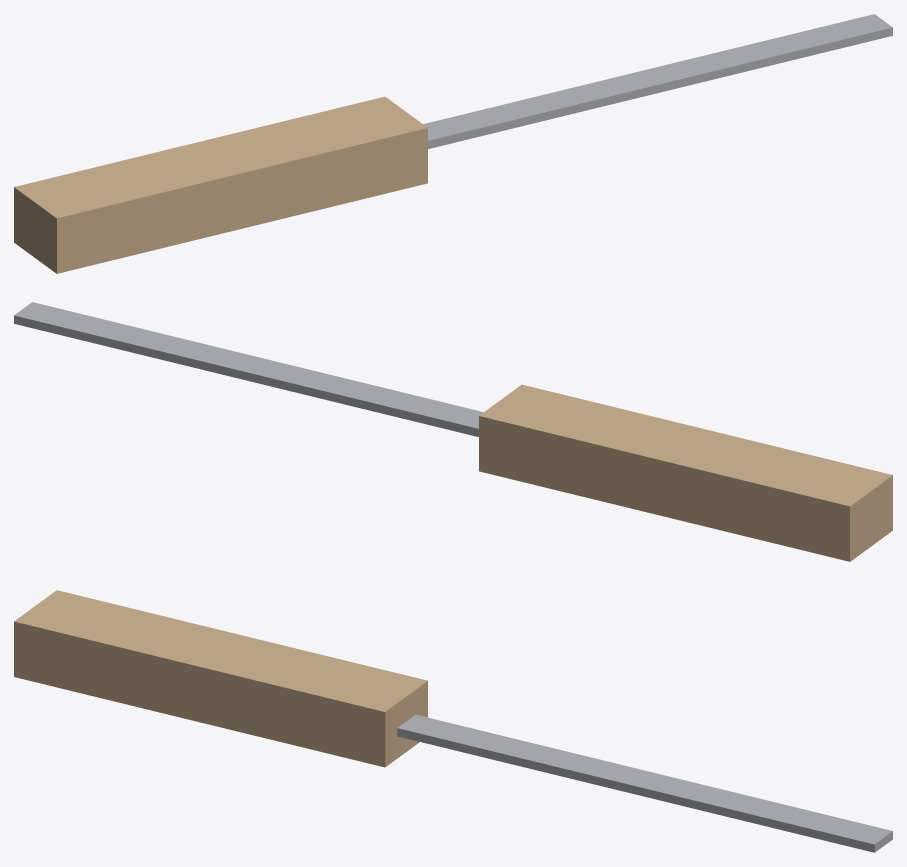
The model's file is prop-ward-file-kb1.fbx.
3 renders of one model, top to bottom at view 1: azimuth 30°, elevation 25°; view 2: azimuth 150°, elevation 25°; view 3: azimuth 330°, elevation 25°, orthographic.
Visible parts, largest first — view 1: prop-ward-file-kb1; view 2: prop-ward-file-kb1; view 3: prop-ward-file-kb1.
Boxes of the visible parts, x1,y1,x2,y2 form: prop-ward-file-kb1: [14, 14, 892, 273]; prop-ward-file-kb1: [14, 302, 892, 561]; prop-ward-file-kb1: [14, 590, 892, 852].
Bounding box in the file's own units: 16 × 1 × 1.4.
